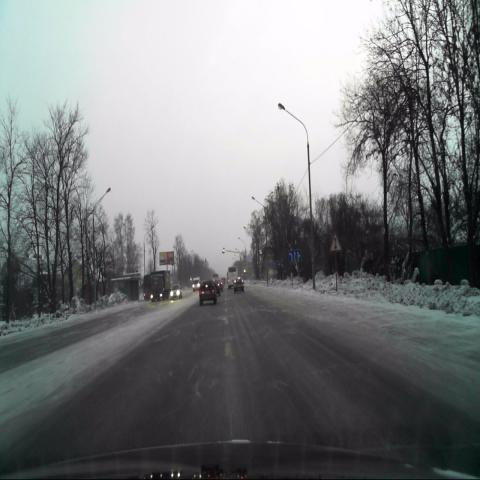1_8: (329, 231, 342, 253)
